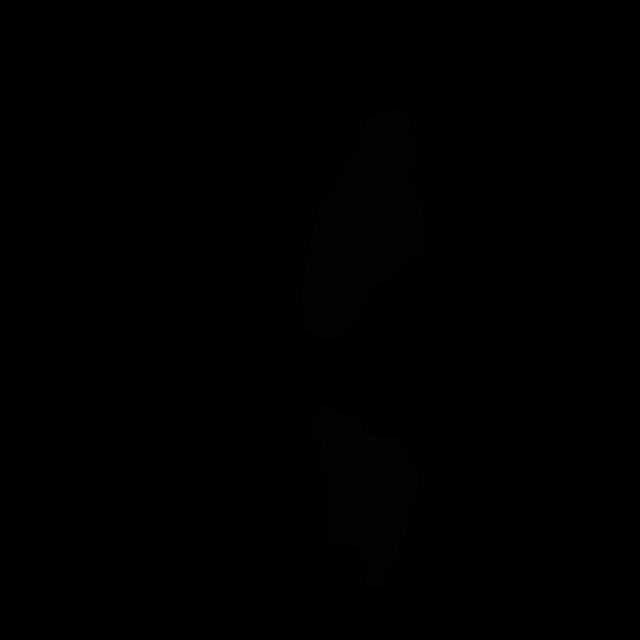cardboard: (300, 109, 425, 343), (310, 401, 420, 591)
